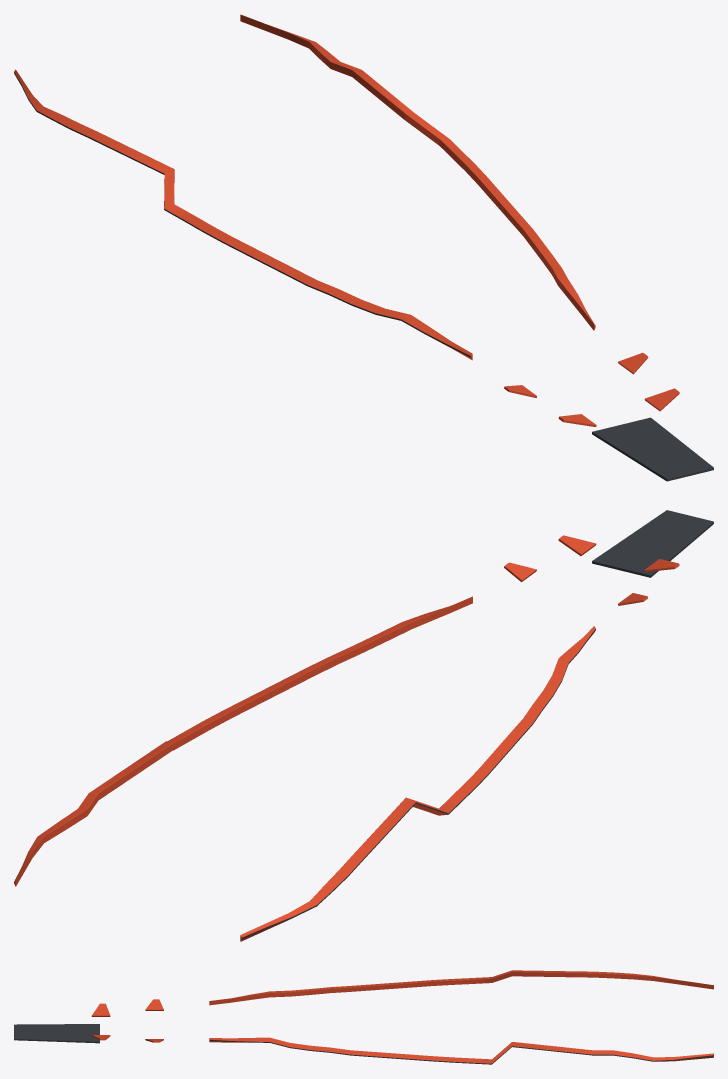
File: vortex_armor_ep.fbx
The picture shows the model from 3 angles, top to bottom: view 1: azimuth 30°, elevation 25°; view 2: azimuth 150°, elevation 25°; view 3: azimuth 270°, elevation 25°; orthographic projection. The views are drawn at different scales.
Parts seen in each view (by area): view 1: Armor_Aero; view 2: Armor_Aero; view 3: Armor_Aero.
Part boxes in pixels (x1,y1,x2,y2): Armor_Aero: (14, 14, 713, 481); Armor_Aero: (14, 510, 713, 941); Armor_Aero: (14, 970, 713, 1064).
Bounding box in the file's own units: 157 × 23.04 × 534.
